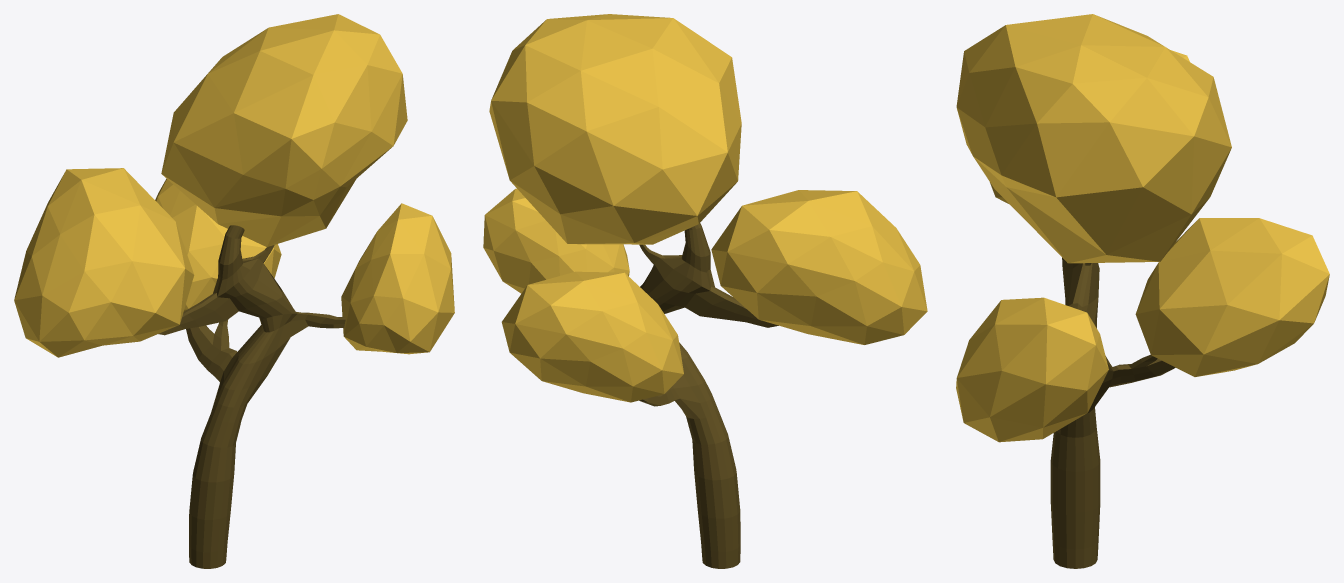
The model's file is autumnTree.fbx.
3 views of the same model, side by side, from view 1: azimuth 30°, elevation 25°; view 2: azimuth 150°, elevation 25°; view 3: azimuth 270°, elevation 25° (orthographic). The views are drawn at different scales.
Visible parts, largest first — view 1: leaves.002, leaves.003, trunk, leaves.001, leaves; view 2: leaves.002, leaves.003, leaves, trunk, leaves.001; view 3: leaves.002, leaves, leaves.001, trunk.
Boxes of the visible parts, x1,y1,x2,y2 form: leaves.002: (161,14,407,246); leaves.003: (14,168,194,357); trunk: (158,225,345,568); leaves.001: (341,203,454,354); leaves: (155,178,281,311); leaves.002: (489,14,741,244); leaves.003: (711,190,927,344); leaves: (501,271,683,402); trunk: (639,223,778,568); leaves.001: (483,188,629,293); leaves.002: (956,14,1231,263); leaves: (1135,218,1329,376); leaves.001: (956,297,1108,442); trunk: (1050,257,1175,568).
Bounding box in the file's own units: 453 × 518 × 298.
